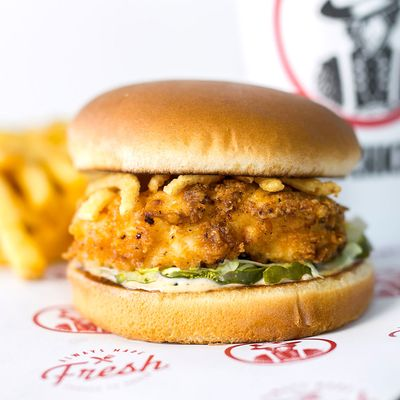soup: (52, 78, 373, 346)
